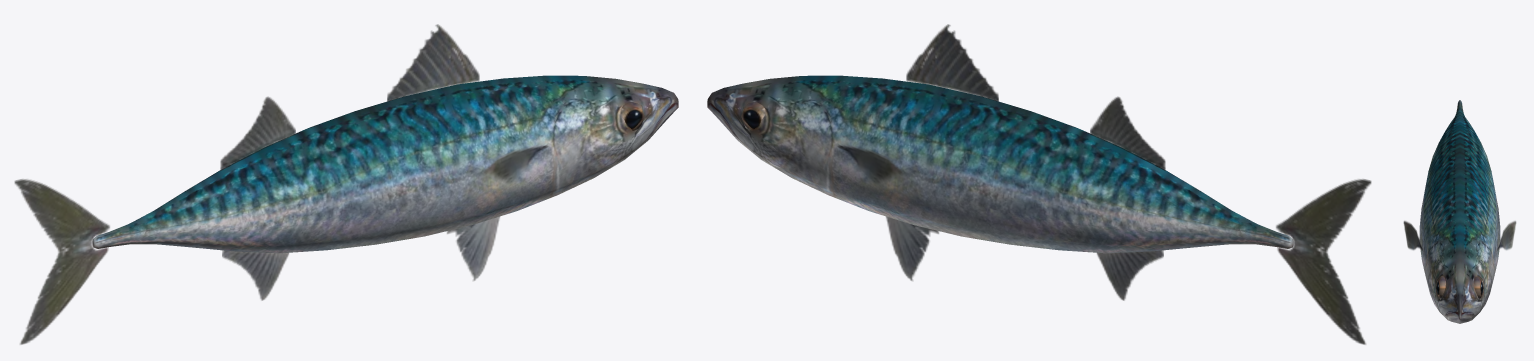
File: saba_lo.glb
3 renders of one model, left to right at view 1: azimuth 30°, elevation 25°; view 2: azimuth 150°, elevation 25°; view 3: azimuth 270°, elevation 25°, orthographic. The views are drawn at different scales.
Visible parts, largest first — view 1: saba_body; view 2: saba_body; view 3: saba_body.
Part boxes in pixels (bbox=[...]): saba_body: bbox=[14, 24, 678, 344]; saba_body: bbox=[707, 24, 1371, 344]; saba_body: bbox=[1403, 100, 1516, 323].
Bounding box in the file's own units: 0.3505 × 0.1341 × 0.0737.
Materials: 1 (1 with a texture image).
